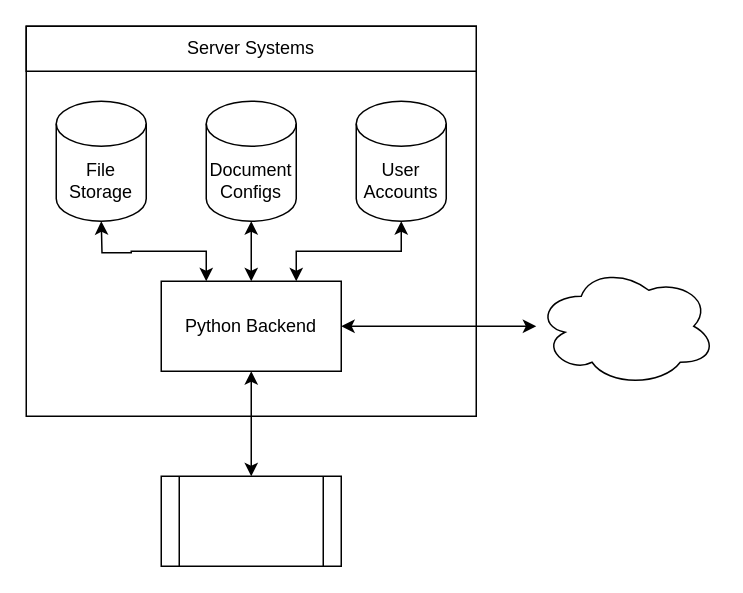
Image size: 743x593. Some labels were removed from this diagram. Each missing label, with the box of its shape:
ChatGPT: (535, 265, 716, 386)
User Interface: (160, 475, 341, 566)
